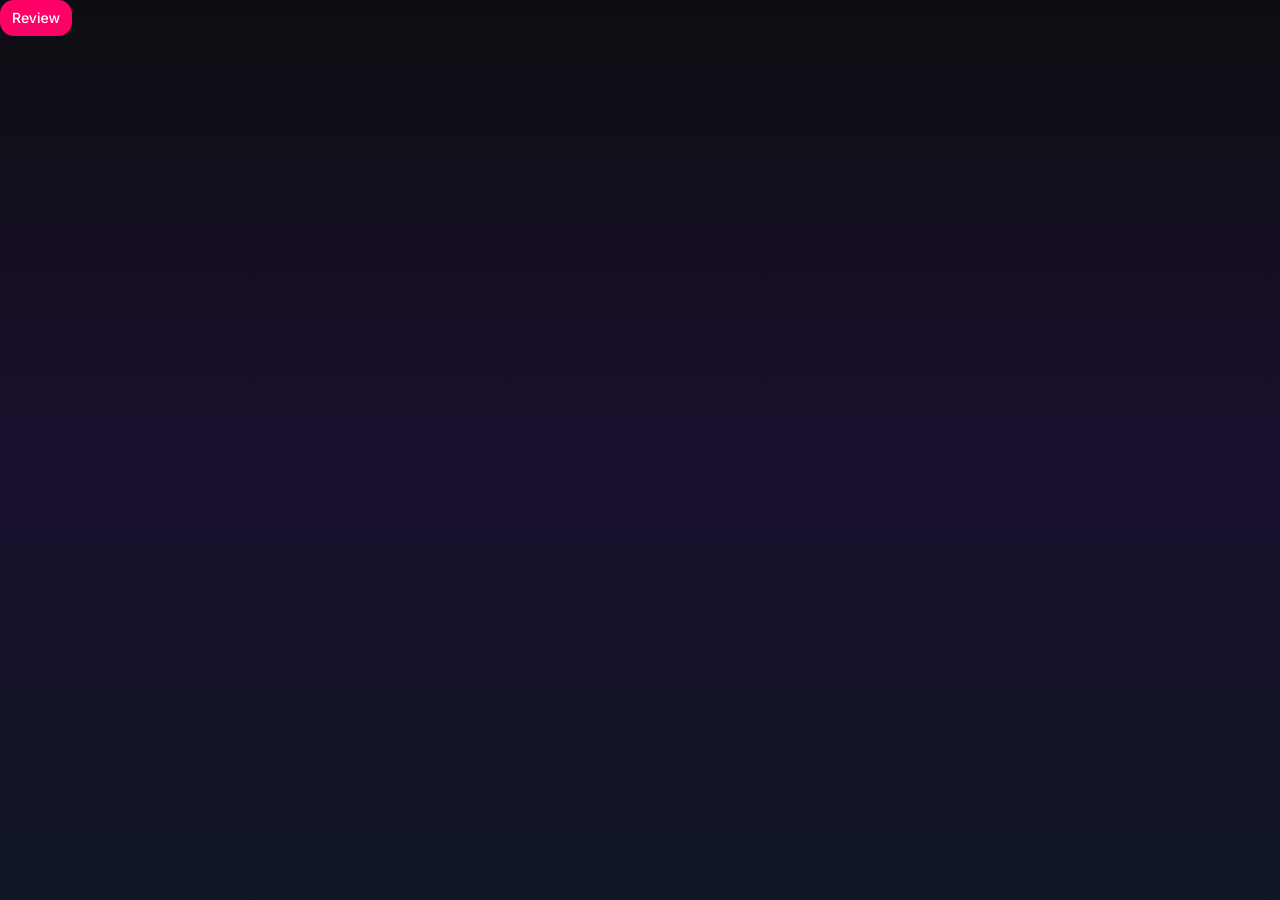
change request review dialog › lets a reviewer start the review of a waiting request
Later steps or results of the test are not shown.
What coordinates should you click on to do the following:
click the button "Review"
I would click on:
 (36, 18)
Its box is x1=0 y1=0 x2=72 y2=36.
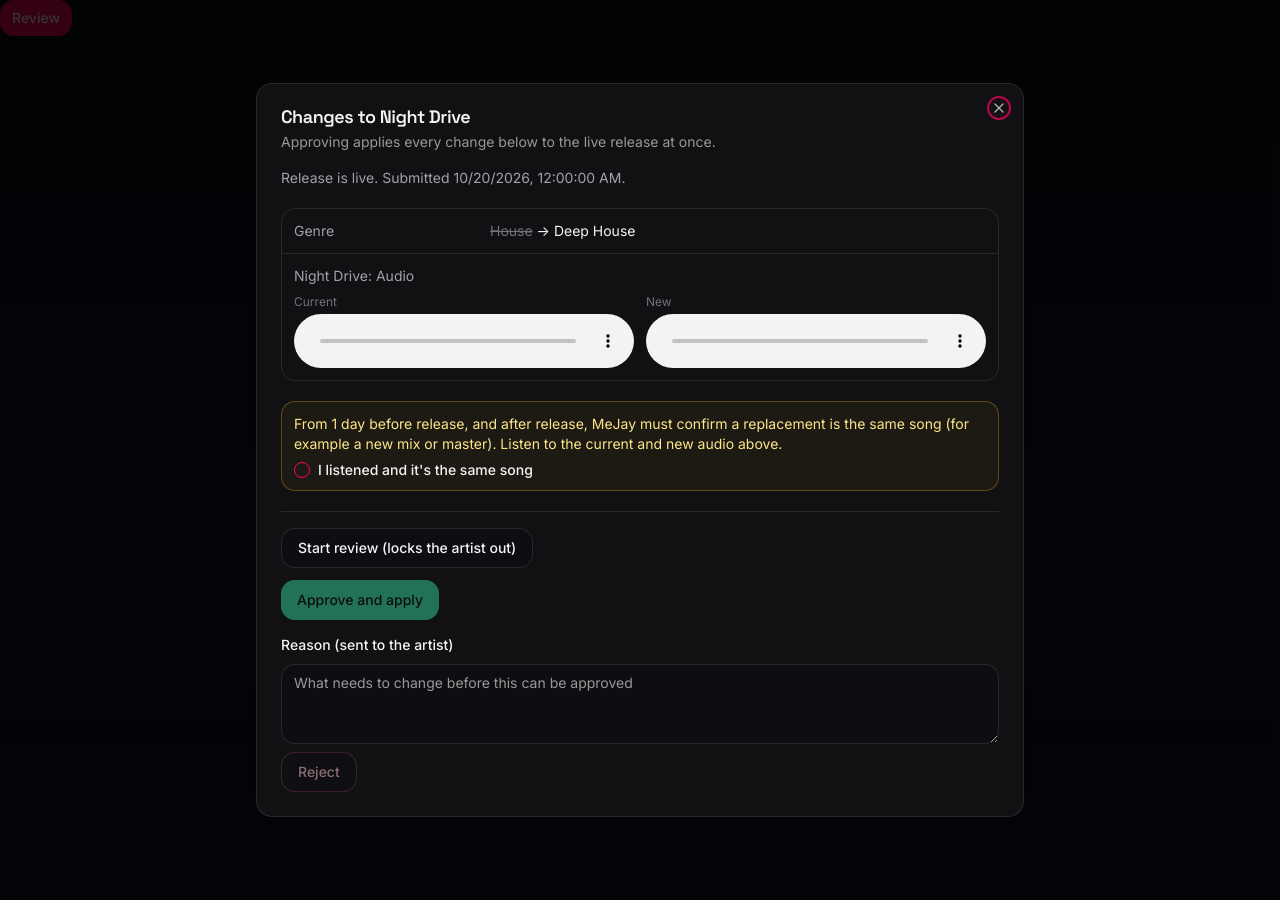
Result: the text "Deep House" is shown at x1=554 y1=222 x2=636 y2=239
